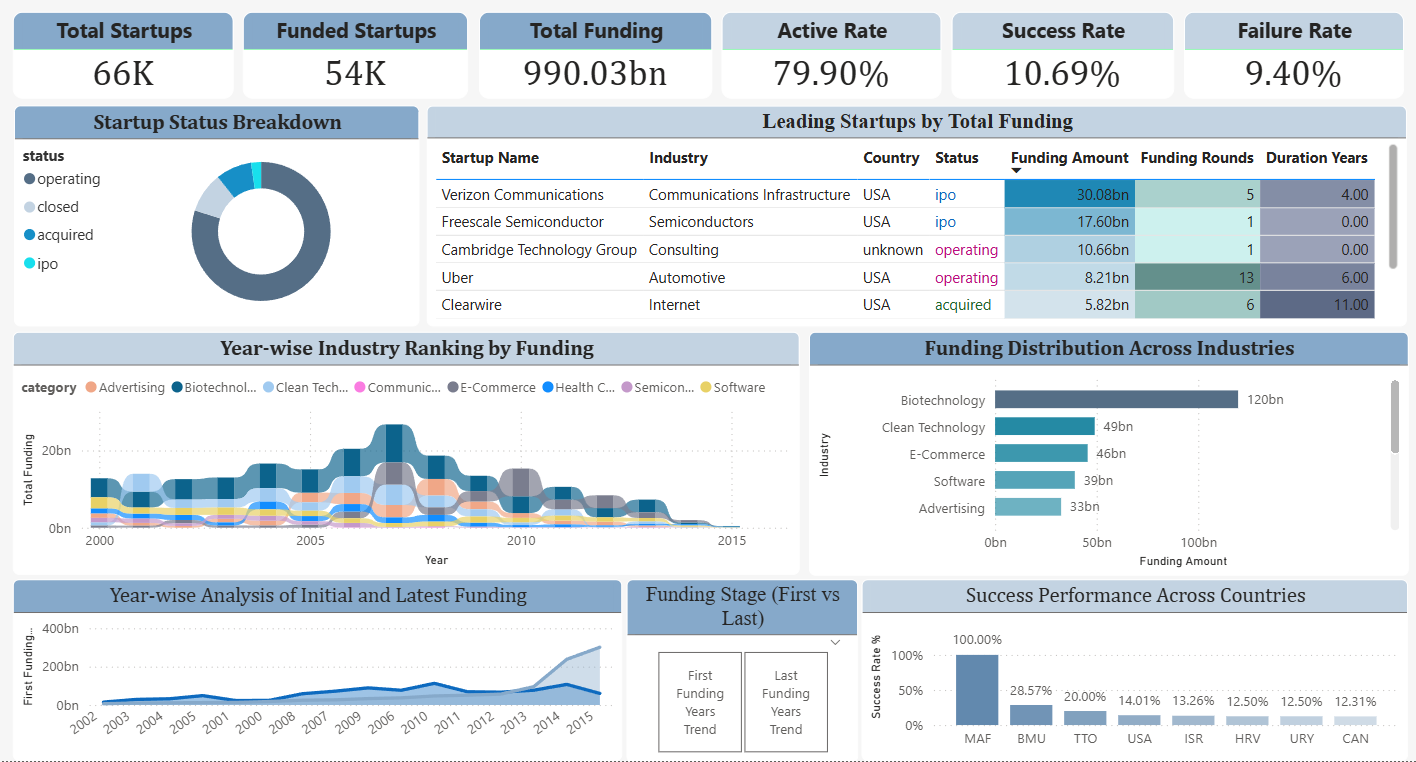

The page's visual inventory and layout, read from the dashboard file:
{"tool":"powerbi","page":{"name":"Global startup funding ecosystem","canvas":[1280,720],"ordinal":0},"visuals":[{"type":"card","title":"Total Startups","fields":{"Values":["measure.Total Startups"]},"box":[12.2,44,199.3,78.3],"z":0},{"type":"clusteredBarChart","title":"Funding Distribution Across Industries","fields":{"Category":["Startup Data.category"],"Y":["measure.tot_fund"]},"box":[730,332.6,540.5,220.1],"z":1000},{"type":"ribbonChart","title":"Year-wise Industry Ranking by Funding","fields":{"Category":["DateTable.Date.Variation.Date Hierarchy.Year"],"Y":["measure.tot_fund"],"Series":["Startup Data.category"]},"box":[12.2,332.6,709.2,218.9],"z":2000},{"type":"donutChart","title":"Startup Status Breakdown","fields":{"Category":["Startup Data.status"],"Y":["CountNonNull(Startup Data.status)"]},"box":[13.5,128.4,365.6,199.3],"z":3000},{"type":"tableEx","title":"Leading Startups by Total Funding","fields":{"Values":["Startup Data.name","Startup Data.category","Startup Data.country_code","Startup Data.status","measure.tot_fund","Sum(Startup Data.funding_rounds)","Sum(Startup Data.duration years.1)"]},"box":[385.2,128.4,884.1,199.3],"z":4000},{"type":"card","title":"Total Funding","fields":{"Values":["measure.tot_fund"]},"box":[432.9,44,210.3,78.3],"z":5000},{"type":"card","title":"Active Rate ","fields":{"Values":["measure.Active Rate %"]},"box":[651.8,44,198.1,78.3],"z":6000},{"type":"card","title":"Success Rate ","fields":{"Values":["measure.Success Rate %"]},"box":[858.4,44,200.5,78.3],"z":7000},{"type":"card","title":"Failure Rate ","fields":{"Values":["measure.Failure Rate %"]},"box":[1068.8,44,198.1,78.3],"z":8000},{"type":"lineChart","title":"Year-wise Analysis of Initial and Latest Funding","fields":{"Y":["DateTable.UR_ff","DateTable.UR_lf"],"Category":["DateTable.Year"]},"box":[11.9,555.3,549.3,163.8],"z":9000},{"type":"slicer","title":"Funding Stage (First vs Last)","fields":{"Values":["Parameter 2.Parameter"]},"box":[565.7,555.3,208.4,165.2],"z":10000},{"type":"card","title":"Funded Startups","fields":{"Values":["measure.Funded Startups"]},"box":[220.1,44,203,78.3],"z":11000},{"type":"columnChart","title":"Success Performance Across Countries","fields":{"Y":["measure.Success Rate %"],"Category":["Startup Data.country_code"]},"box":[777.7,555.2,492.8,163.9],"z":12000}]}

Visuals, with their boxes on the page's 1280x720 design canvas (x1, y1, x2, y2). These are canvas units, not pixel positions in the 1416x762 screenshot, which may show the page scaled, cropped or inside an application window:
"Total Startups" card: (x1=12, y1=44, x2=212, y2=122)
"Funding Distribution Across Industries" clusteredBarChart: (x1=730, y1=333, x2=1270, y2=553)
"Year-wise Industry Ranking by Funding" ribbonChart: (x1=12, y1=333, x2=721, y2=552)
"Startup Status Breakdown" donutChart: (x1=14, y1=128, x2=379, y2=328)
"Leading Startups by Total Funding" tableEx: (x1=385, y1=128, x2=1269, y2=328)
"Total Funding" card: (x1=433, y1=44, x2=643, y2=122)
"Active Rate " card: (x1=652, y1=44, x2=850, y2=122)
"Success Rate " card: (x1=858, y1=44, x2=1059, y2=122)
"Failure Rate " card: (x1=1069, y1=44, x2=1267, y2=122)
"Year-wise Analysis of Initial and Latest Funding" lineChart: (x1=12, y1=555, x2=561, y2=719)
"Funding Stage (First vs Last)" slicer: (x1=566, y1=555, x2=774, y2=720)
"Funded Startups" card: (x1=220, y1=44, x2=423, y2=122)
"Success Performance Across Countries" columnChart: (x1=778, y1=555, x2=1270, y2=719)
